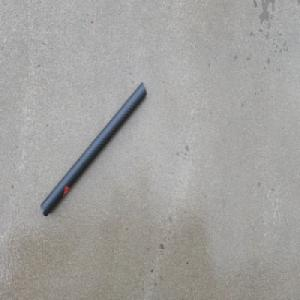LuggagePart: (40, 81, 147, 218)
